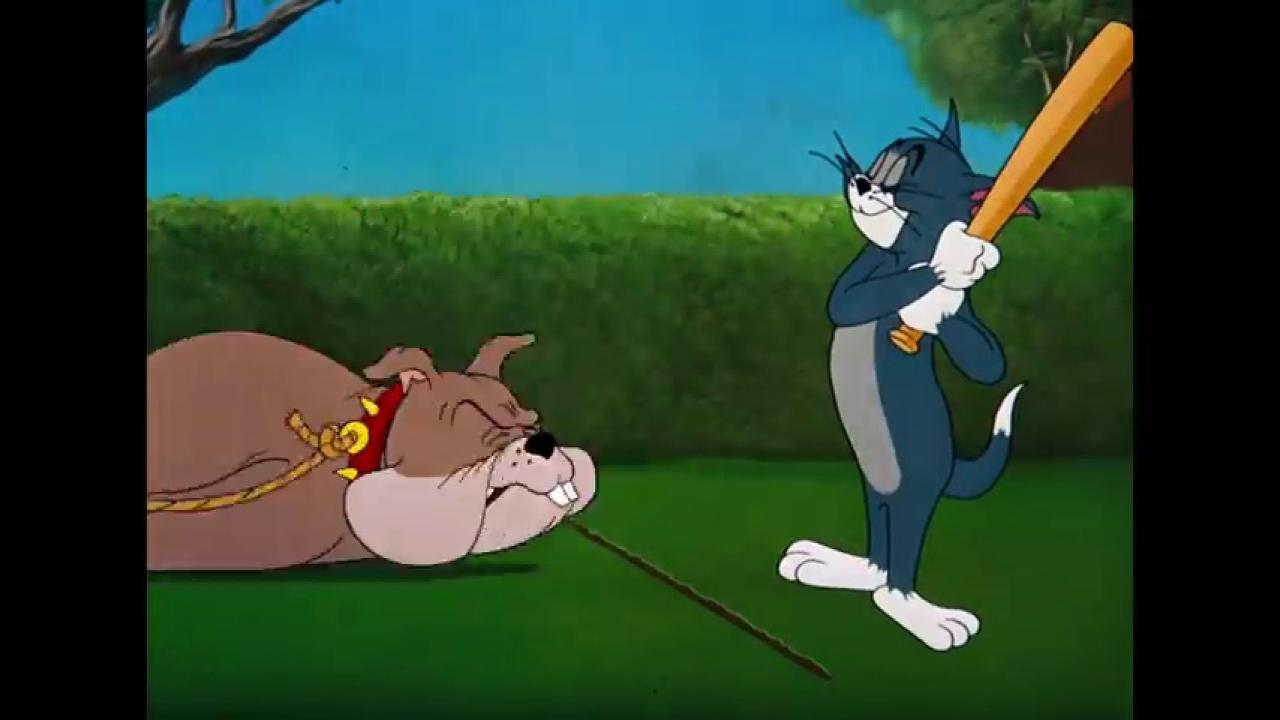Tom: (778, 95, 1044, 655)
